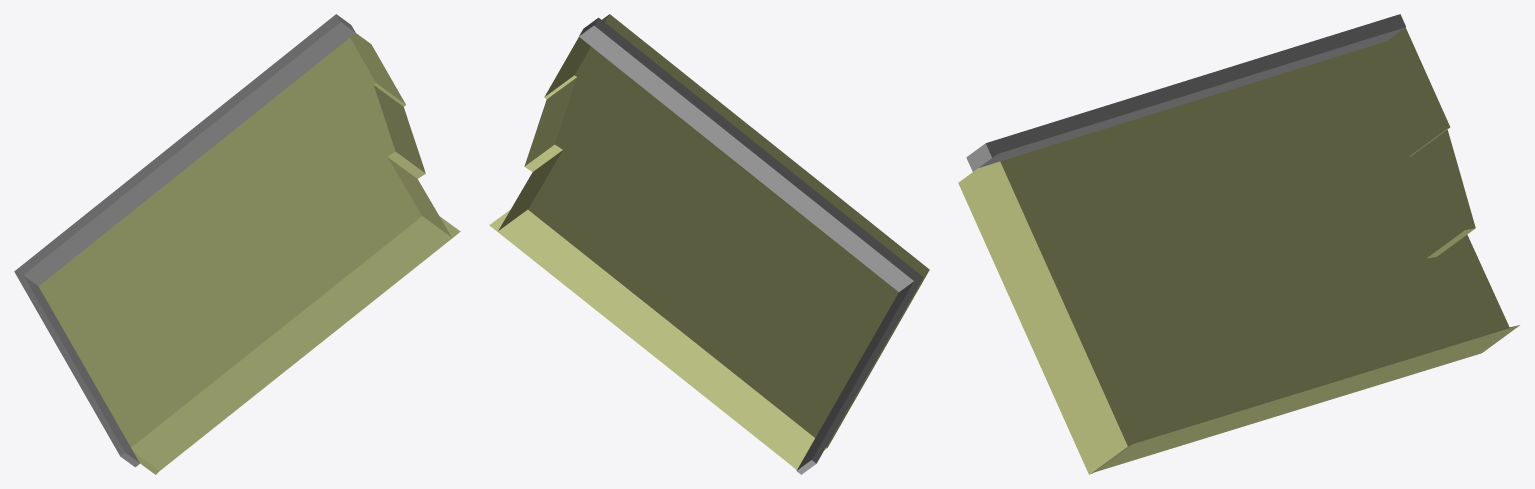
3 renders of one model, left to right at view 1: azimuth 30°, elevation 25°; view 2: azimuth 150°, elevation 25°; view 3: azimuth 330°, elevation 25°, orthographic. The views are drawn at different scales.
Parts seen in each view (by area): view 1: 0_2_3_2_1_2_3_0_1; view 2: 0_2_3_2_1_2_3_0_1; view 3: 0_2_3_2_1_2_3_0_1.
Part boxes in pixels (left/top/right/bottom): 0_2_3_2_1_2_3_0_1: left=14, top=14, right=460, bottom=474; 0_2_3_2_1_2_3_0_1: left=489, top=14, right=929, bottom=474; 0_2_3_2_1_2_3_0_1: left=958, top=14, right=1519, bottom=474.
Bounding box in the file's own units: 47.74 × 42.74 × 6.09.
